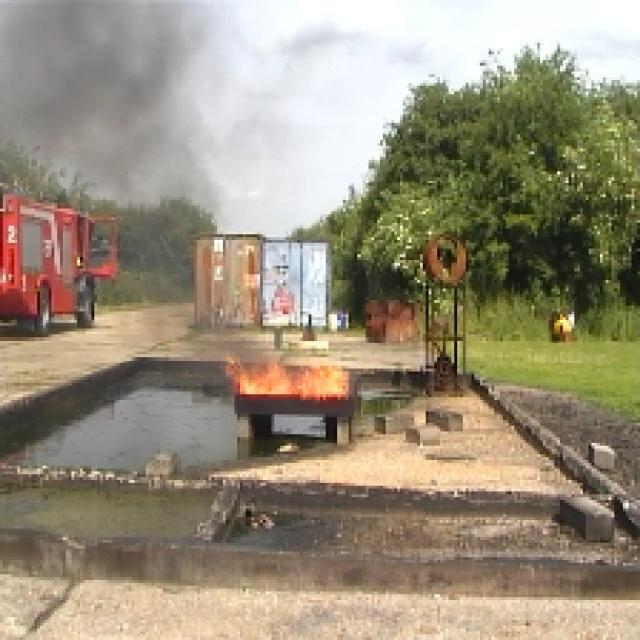Fire: (232, 348, 356, 402)
Smoke: (39, 21, 229, 179)
